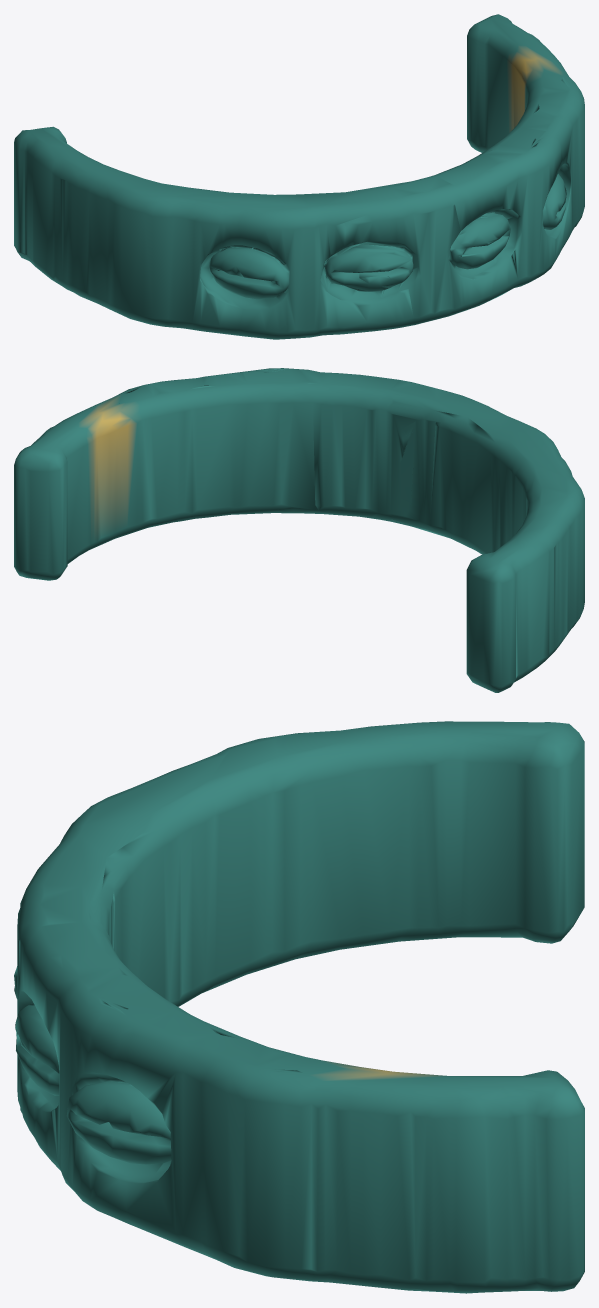
File: cg_d_god_sense_eye_ring.glb
3 renders of one model, top to bottom at view 1: azimuth 30°, elevation 25°; view 2: azimuth 150°, elevation 25°; view 3: azimuth 270°, elevation 25°, orthographic. The views are drawn at different scales.
Parts seen in each view (by area): view 1: LOD0; view 2: LOD0; view 3: LOD0.
Boxes of the visible parts, left/top/right/bottom form: LOD0: left=14, top=14, right=584, bottom=339; LOD0: left=14, top=368, right=584, bottom=692; LOD0: left=14, top=721, right=584, bottom=1293.
Size of what is drawn, in the model's own units: 8.01 by 2 by 5.02.
